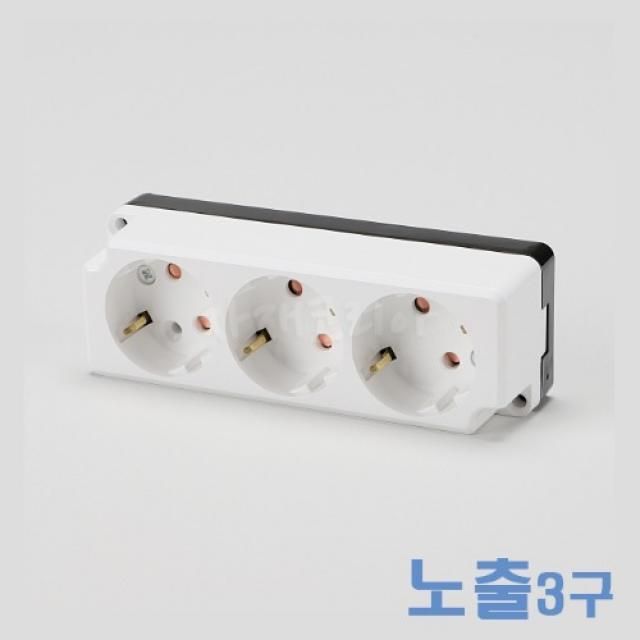typeb: (40, 153, 580, 464)
